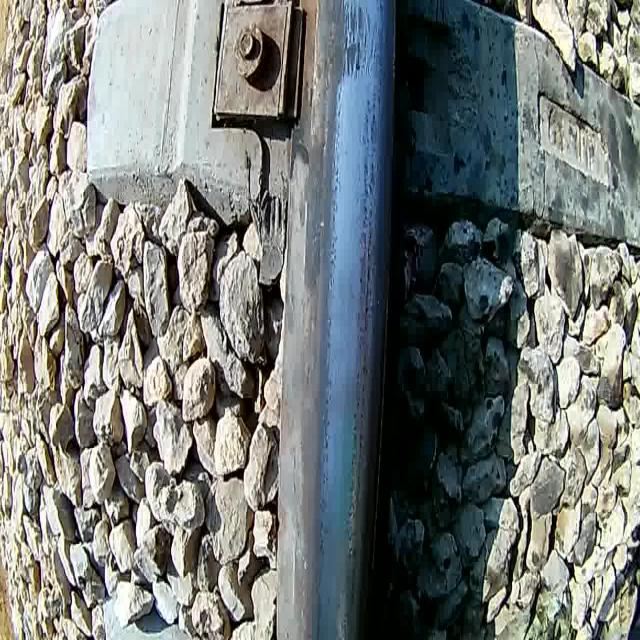Cracks: (338, 0, 350, 83), (355, 31, 371, 86)
Flakings: (342, 86, 385, 640)
Squats: (326, 0, 368, 88)
